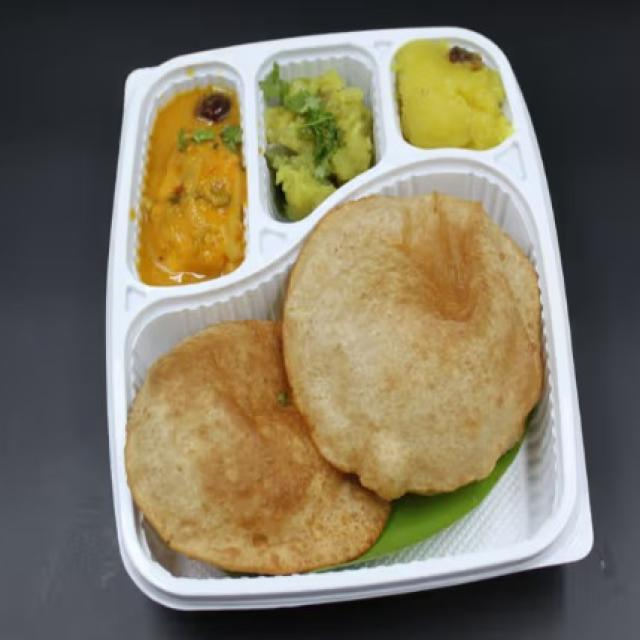CURRY: (267, 39, 393, 230)
POORI: (125, 167, 552, 585)
SAMBAR: (125, 73, 247, 290)
SWEET: (396, 43, 515, 157)
